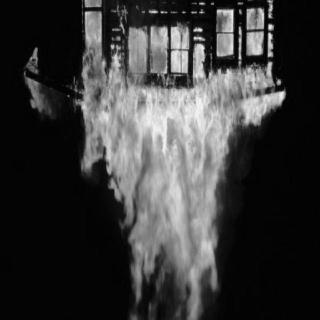Fire: (78, 1, 286, 318), (24, 47, 66, 116)
